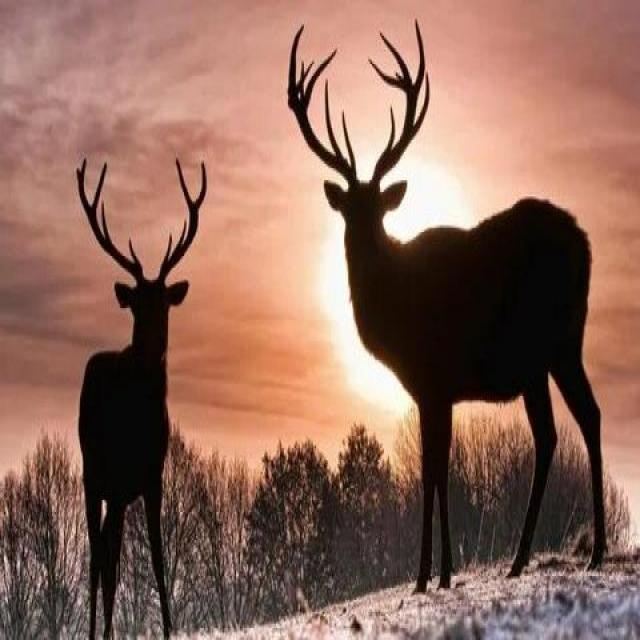deer: (270, 14, 623, 577), (34, 187, 250, 614)
